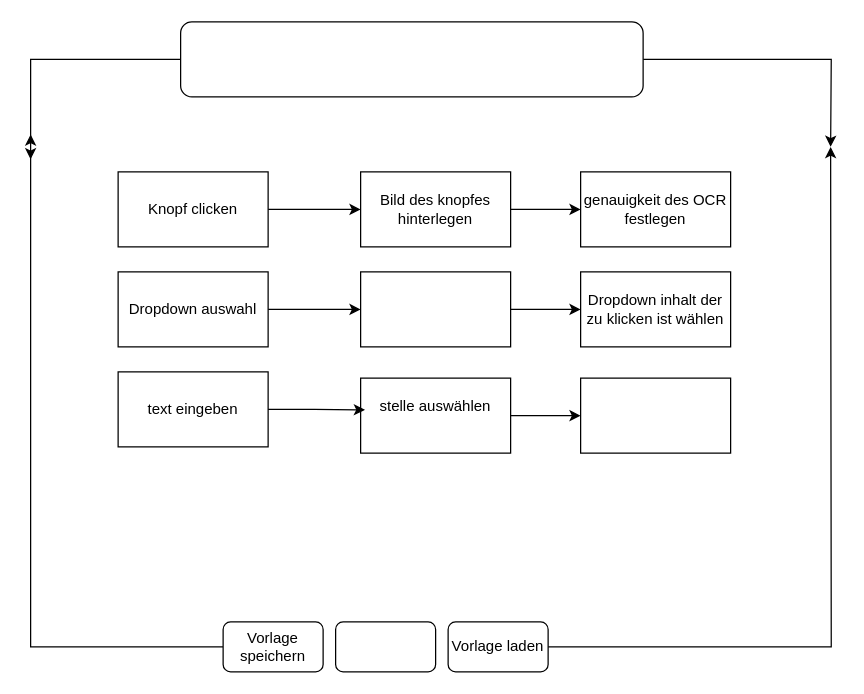
Image size: 864x694. Some labels were removed from this diagram. Here are the shapes that lost their labels. From the top down, the centre of each, then its label:
At point 411,59: "Vorlage erstellen".
At point 435,309: "Bild des dropdowns hinterlegen".
At point 655,415: "klickt und gibt direkt ein".
At point 385,646: "Vorlage ausführen".
